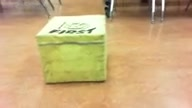cube: (35, 15, 107, 84)
